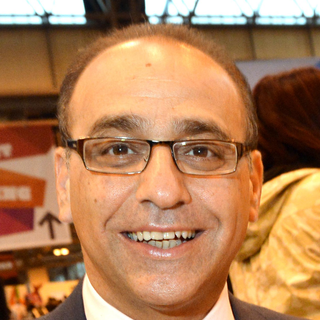eye: (86, 140, 143, 164), (176, 144, 224, 164)
